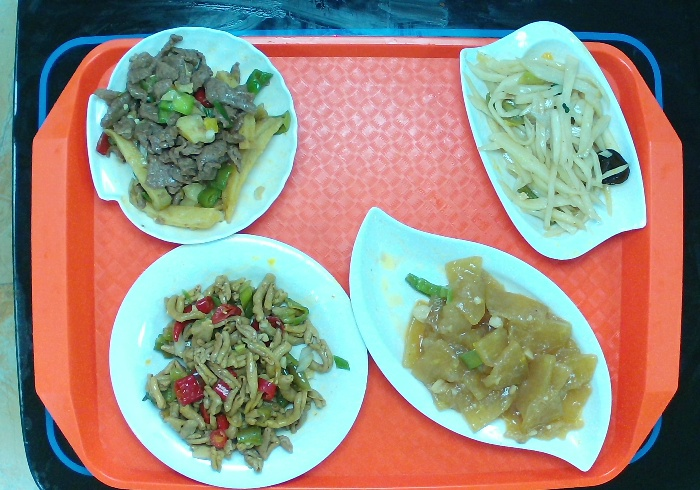RJxy-Bei_Ke_Wan: (84, 24, 299, 244)
RJxy-Jian_Jiao_Fang_Die: (457, 18, 652, 261)
RJxy-Jian_Jiao_Pan: (347, 203, 618, 474)
RJxy-Yuan_Pan: (108, 227, 371, 490)
